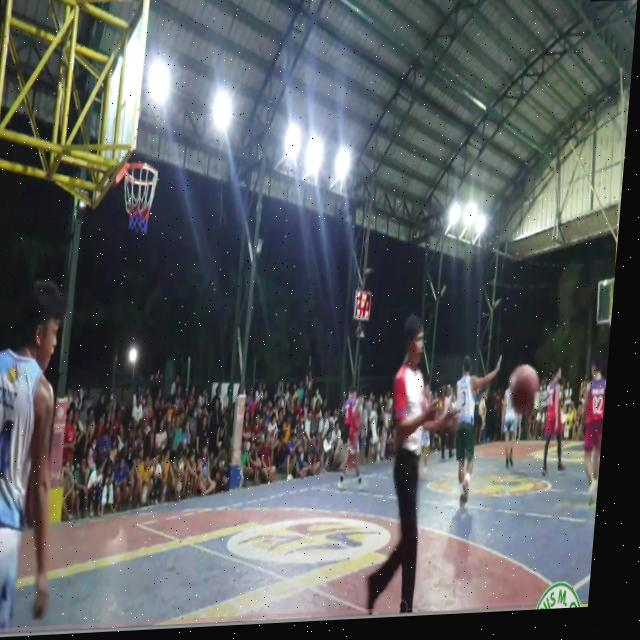basketball: (501, 351, 546, 426)
hoop: (115, 152, 163, 245)
